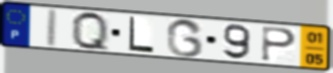9: (221, 23, 253, 61)
G: (165, 17, 205, 59)
I: (43, 7, 60, 49)
L: (127, 15, 156, 55)
P: (259, 25, 299, 63)
Q: (70, 10, 112, 54)
